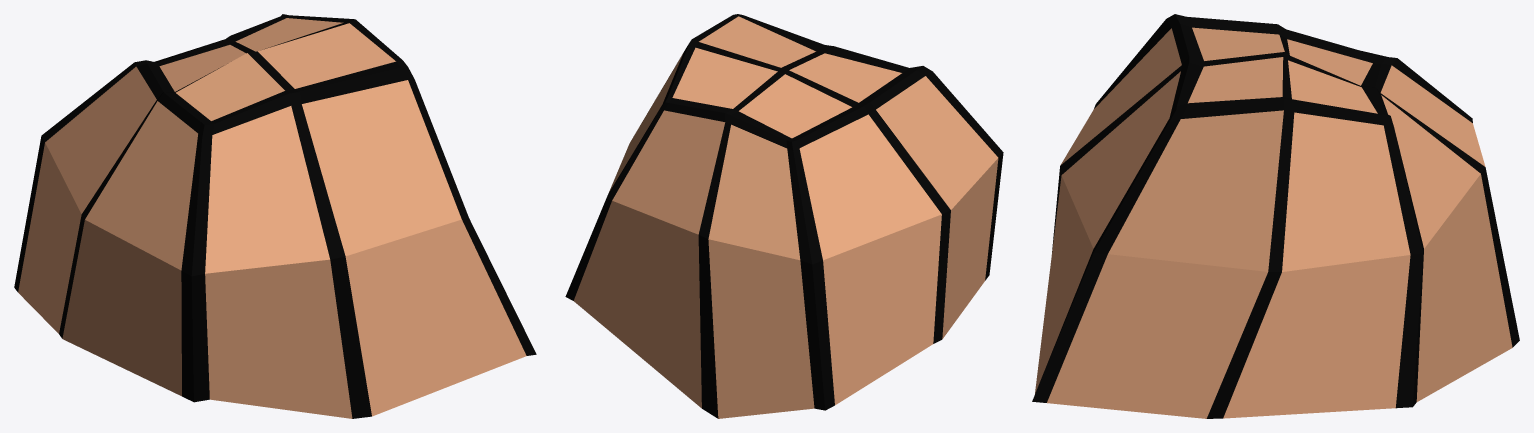
The model's file is CardboardRock03.fbx.
The picture shows the model from 3 angles, left to right: view 1: azimuth 30°, elevation 25°; view 2: azimuth 150°, elevation 25°; view 3: azimuth 270°, elevation 25°; orthographic projection. The views are drawn at different scales.
Visible parts, largest first — view 1: Cube.014; view 2: Cube.014; view 3: Cube.014.
Part boxes in pixels (x1,y1,x2,y2): Cube.014: (14,14,536,418); Cube.014: (565,14,1003,418); Cube.014: (1032,14,1519,418).
Bounding box in the file's own units: 600 × 461 × 648.
